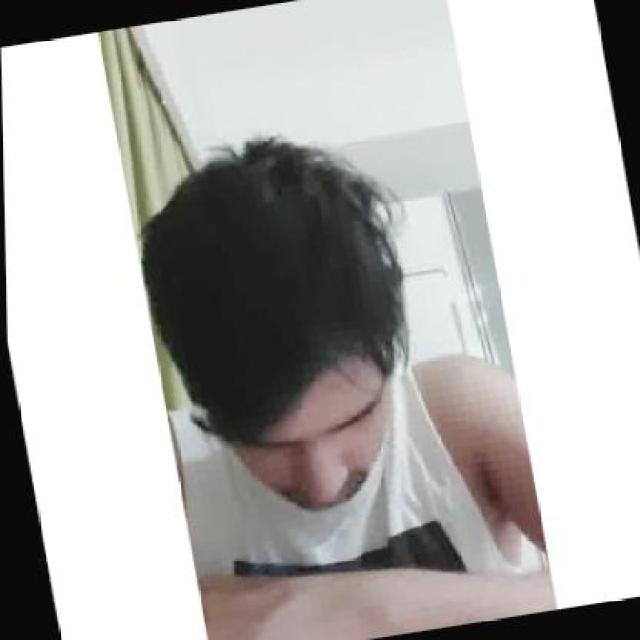inattentif: (128, 124, 408, 528)
